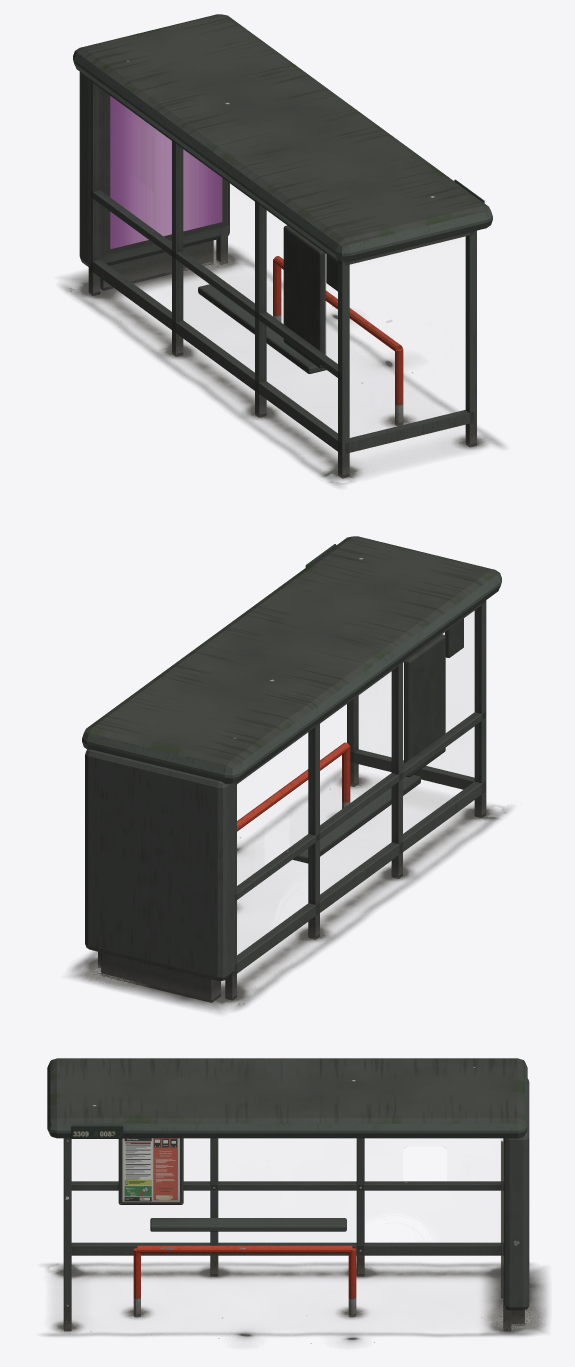
File: preston-bus-shelter-textured.glb
3 renders of one model, top to bottom at view 1: azimuth 30°, elevation 25°; view 2: azimuth 150°, elevation 25°; view 3: azimuth 270°, elevation 25°, orthographic. The views are drawn at different scales.
Parts seen in each view (by area): view 1: BUSSTOP_Roof_Shell, BUSSTOP_Frame, BUSSTOP_GroundContact_Decal, BUSSTOP_Advert_DecalSurface, BUSSTOP_AdvertHousing_Outer, BUSSTOP_Timetable_Backplate, BUSSTOP_Frame_LeftFrontUpright, BUSSTOP_Frame_LeftBottomRail, BUSSTOP_AdvertHousing_Plinth, BUSSTOP_Bench_Perch, BUSSTOP_BenchRail_Horizontal, BUSSTOP_Frame_RightFrontUpright (+1 smaller); view 2: BUSSTOP_Roof_Shell, BUSSTOP_AdvertHousing_Outer, BUSSTOP_Frame, BUSSTOP_GroundContact_Decal, BUSSTOP_Timetable_Backplate, BUSSTOP_AdvertHousing_Plinth, BUSSTOP_Bench_Perch, BUSSTOP_Frame_LeftBottomRail, BUSSTOP_BenchRail_Horizontal, BUSSTOP_Frame_LeftFrontUpright; view 3: BUSSTOP_Roof_Shell, BUSSTOP_GroundContact_Decal, BUSSTOP_Frame, BUSSTOP_AdvertHousing_Outer, BUSSTOP_Timetable_DecalSurface, BUSSTOP_Bench_Perch, BUSSTOP_BenchRail_Horizontal, BUSSTOP_Frame_LeftFrontUpright, BUSSTOP_Timetable_Backplate, BUSSTOP_Number_DecalSurface, BUSSTOP_BenchRail_RightLeg, BUSSTOP_BenchRail_LeftLeg (+1 smaller).
Part boxes in pixels (x1,y1,x2,y2): BUSSTOP_Roof_Shell: (73,14,492,261); BUSSTOP_Frame: (88,80,349,478); BUSSTOP_GroundContact_Decal: (61,241,503,486); BUSSTOP_Advert_DecalSurface: (110,96,222,249); BUSSTOP_AdvertHousing_Outer: (79,72,229,266); BUSSTOP_Timetable_Backplate: (283,225,325,368); BUSSTOP_Frame_LeftFrontUpright: (465,230,476,446); BUSSTOP_Frame_LeftBottomRail: (345,410,474,453); BUSSTOP_AdvertHousing_Plinth: (100,240,213,289); BUSSTOP_Bench_Perch: (198,284,326,373); BUSSTOP_BenchRail_Horizontal: (273,256,402,350); BUSSTOP_Frame_RightFrontUpright: (216,178,227,264); BUSSTOP_Roof_Shell: (82,536,501,783); BUSSTOP_AdvertHousing_Outer: (85,749,235,980); BUSSTOP_Frame: (225,600,486,999); BUSSTOP_GroundContact_Decal: (70,769,510,1012); BUSSTOP_Timetable_Backplate: (404,634,445,777); BUSSTOP_AdvertHousing_Plinth: (101,952,220,1002); BUSSTOP_Bench_Perch: (292,775,420,863); BUSSTOP_Frame_LeftBottomRail: (350,749,474,789); BUSSTOP_BenchRail_Horizontal: (237,742,349,831); BUSSTOP_Frame_LeftFrontUpright: (347,695,358,786); BUSSTOP_Roof_Shell: (47,1058,527,1138); BUSSTOP_GroundContact_Decal: (44,1262,547,1344); BUSSTOP_Frame: (71,1138,501,1275); BUSSTOP_AdvertHousing_Outer: (504,1078,529,1310); BUSSTOP_Timetable_DecalSurface: (122,1138,179,1202); BUSSTOP_Bench_Perch: (150,1218,346,1231); BUSSTOP_BenchRail_Horizontal: (137,1245,352,1253); BUSSTOP_Frame_LeftFrontUpright: (63,1138,71,1331); BUSSTOP_Timetable_Backplate: (118,1138,183,1204); BUSSTOP_Number_DecalSurface: (71,1125,123,1138); BUSSTOP_BenchRail_RightLeg: (348,1248,356,1316); BUSSTOP_BenchRail_LeftLeg: (133,1248,140,1316).
Size of the model in its own units: 2.6 by 2.55 by 5.9.
8 materials, 8 textured.
